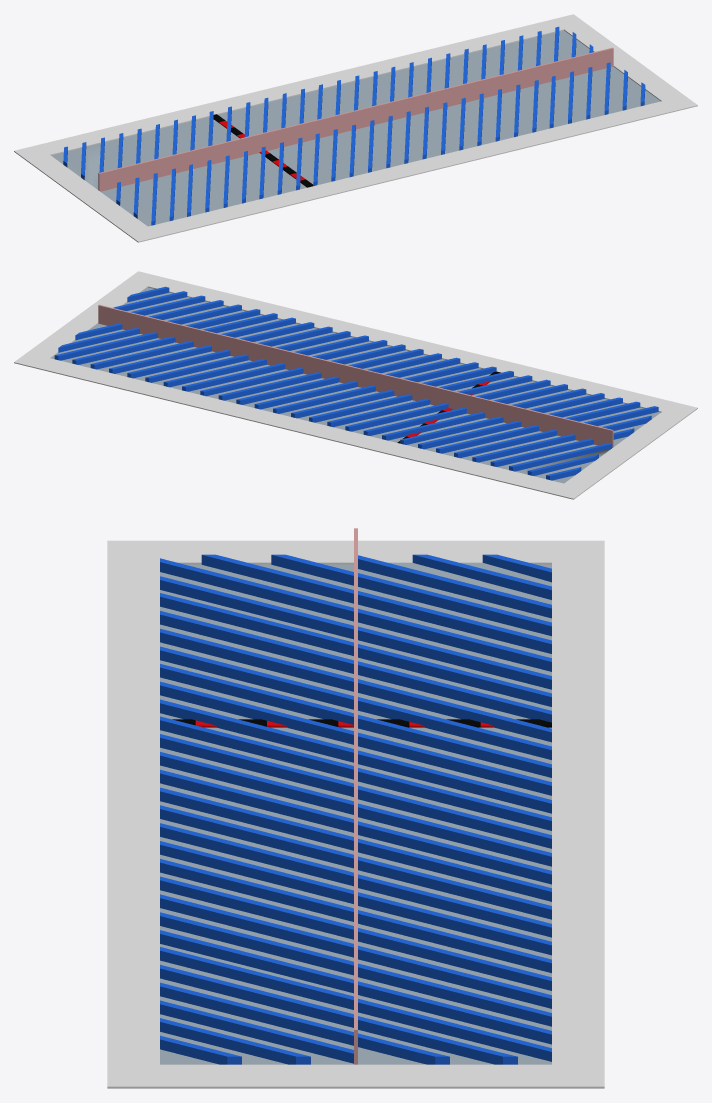
File: buildingc.gltf
3 renders of one model, top to bottom at view 1: azimuth 30°, elevation 25°; view 2: azimuth 150°, elevation 25°; view 3: azimuth 270°, elevation 25°, orthographic. The views are drawn at different scales.
Visible parts, largest first — view 1: forklift-road, division-line, bay35, bay38, bay45, bay59, bay39, bay53, bay47, bay51, bay55, bay58 (+45 smaller); view 2: forklift-road, division-line, Plane.005, Plane.007, Plane.010, Plane.014, Plane.019, Plane.023, Plane.002, Plane.011, Plane.020, Plane.001 (+45 smaller); view 3: forklift-road, Plane.007, Plane.001, Plane.015, Plane.033, Plane.051, Plane.053, Plane.009, Plane.012, Plane.020, Plane.023, Plane.036 (+91 smaller).
Boxes of the visible parts, bbox=[...] form: forklift-road: bbox=[14, 14, 697, 242]; division-line: bbox=[98, 47, 613, 191]; bay35: bbox=[155, 174, 171, 224]; bay38: bbox=[209, 161, 225, 211]; bay45: bbox=[335, 130, 351, 180]; bay59: bbox=[590, 68, 606, 118]; bay39: bbox=[227, 157, 243, 206]; bay53: bbox=[481, 95, 497, 144]; bay47: bbox=[372, 121, 388, 171]; bay51: bbox=[445, 104, 461, 153]; bay55: bbox=[518, 86, 534, 136]; bay58: bbox=[572, 73, 588, 122]; forklift-road: bbox=[14, 271, 697, 499]; division-line: bbox=[98, 304, 613, 447]; Plane.005: bbox=[145, 354, 248, 382]; Plane.007: bbox=[182, 363, 285, 391]; Plane.010: bbox=[236, 376, 339, 404]; Plane.014: bbox=[309, 394, 412, 422]; Plane.019: bbox=[400, 416, 503, 444]; Plane.023: bbox=[472, 434, 575, 462]; Plane.002: bbox=[90, 341, 193, 369]; Plane.011: bbox=[254, 381, 357, 409]; Plane.020: bbox=[418, 421, 521, 449]; Plane.001: bbox=[72, 336, 175, 364]; forklift-road: bbox=[107, 540, 604, 1088]; Plane.007: bbox=[358, 874, 551, 937]; Plane.001: bbox=[358, 981, 551, 1044]; Plane.015: bbox=[358, 732, 551, 795]; Plane.033: bbox=[160, 576, 353, 639]; Plane.051: bbox=[160, 894, 353, 957]; Plane.053: bbox=[160, 930, 353, 993]; Plane.009: bbox=[358, 838, 551, 901]; Plane.012: bbox=[358, 785, 551, 848]; Plane.020: bbox=[358, 644, 551, 706]; Plane.023: bbox=[358, 591, 551, 653]; Plane.036: bbox=[160, 628, 353, 691].
Size of the model in its own units: 59 by 1.94 by 22.7.
